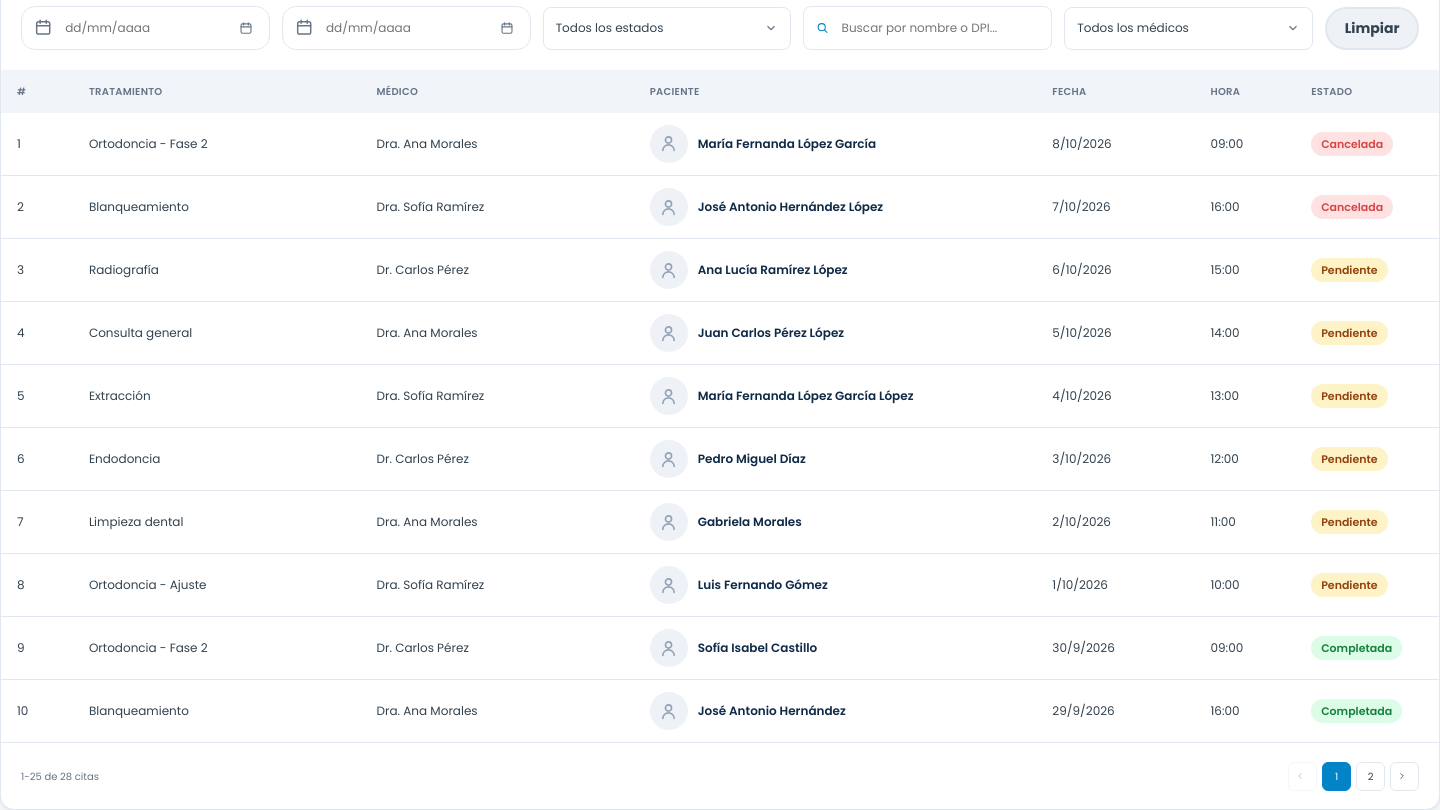
muestra 25 citas por página y permite pasar a las siguientes
(page scrolled)
Click the button named "Página siguiente": (1404,776) [1390,762,1419,790]
(page scrolled)
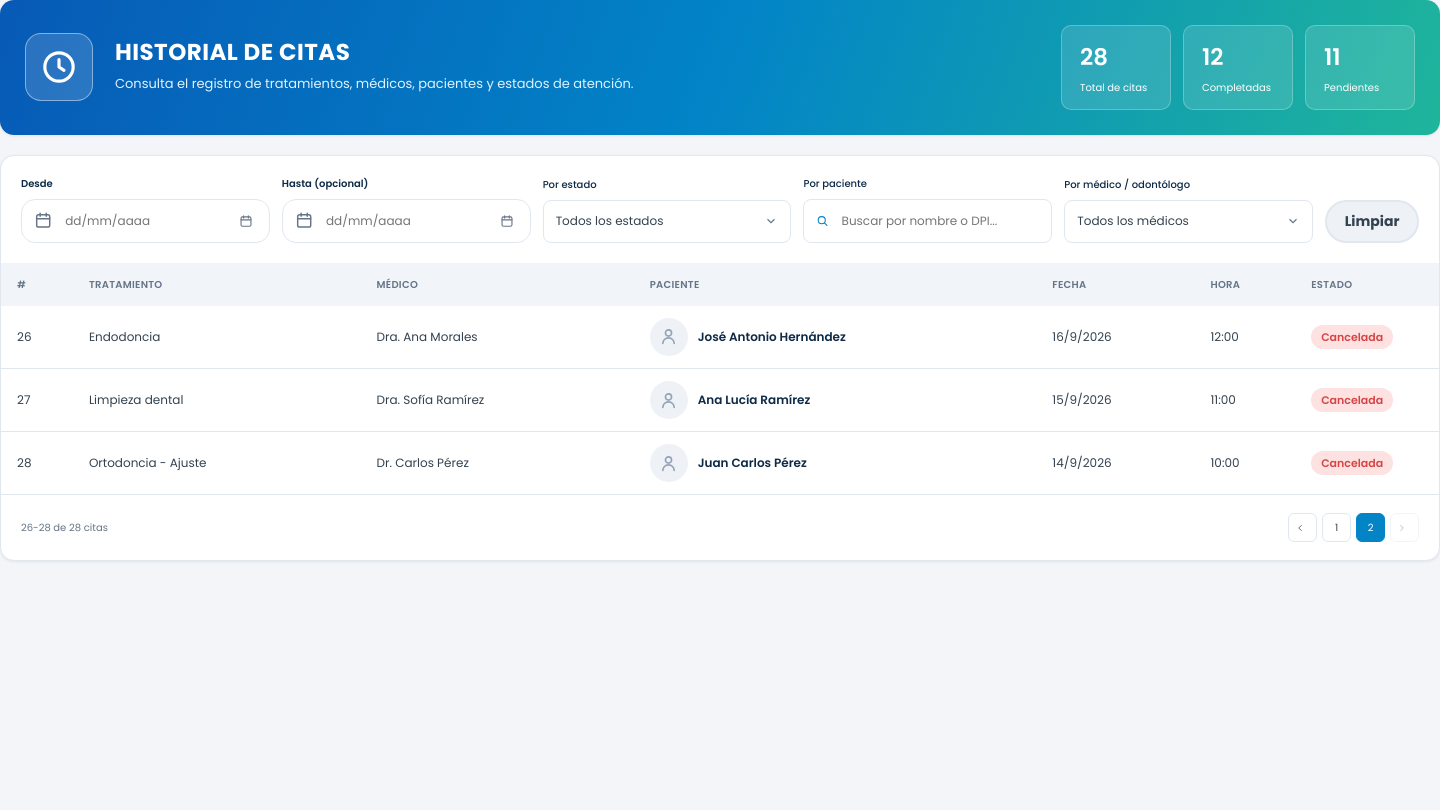
Expected: the text "26-28 de 28 citas" is shown, [21,520,108,535]
